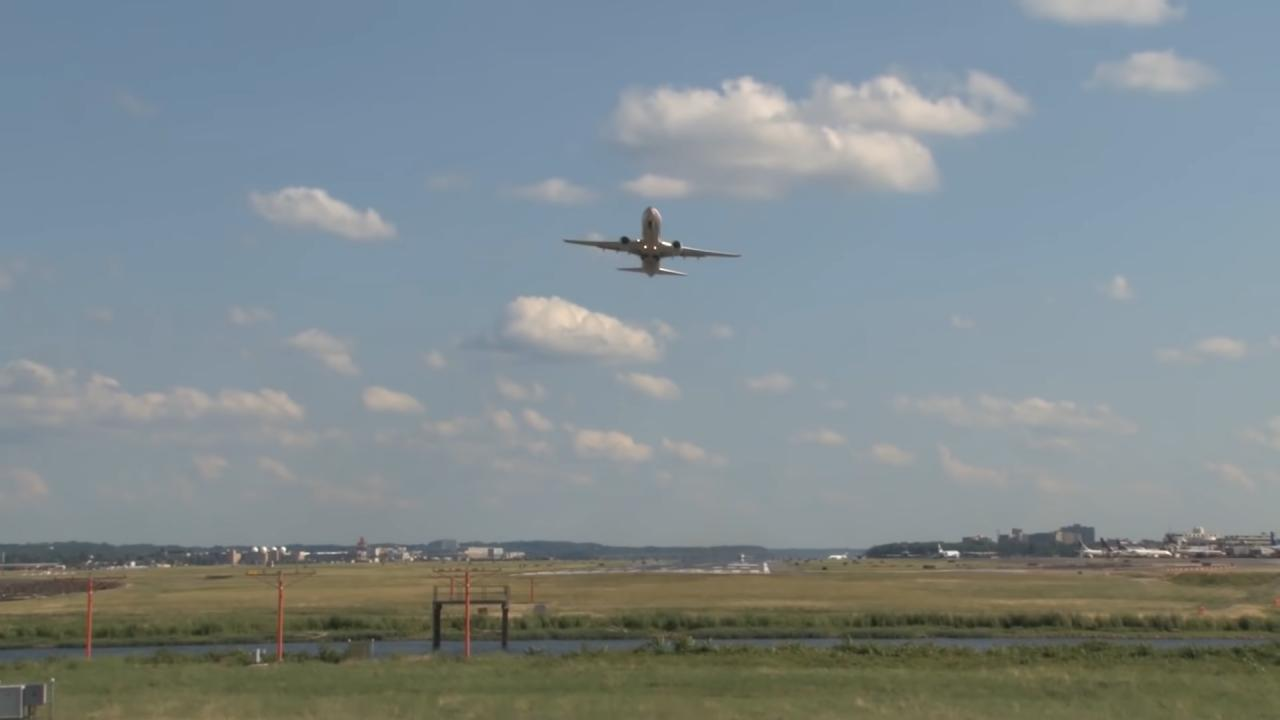Airplane: (554, 193, 752, 289)
